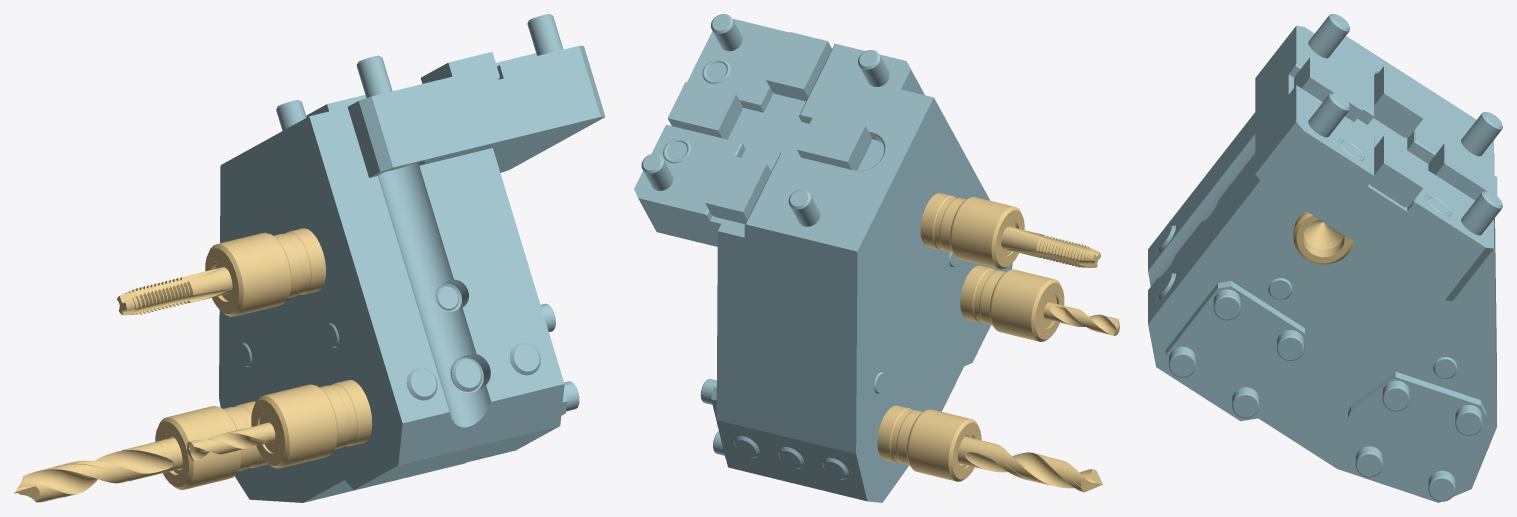
Rendered from toolblock-3x-real.glb.
3 renders of one model, left to right at view 1: azimuth 30°, elevation 25°; view 2: azimuth 150°, elevation 25°; view 3: azimuth 270°, elevation 25°, orthographic. The views are drawn at different scales.
Parts seen in each view (by area): view 1: Turret Assembly; view 2: Turret Assembly; view 3: Turret Assembly.
Boxes of the visible parts, <box> form: Turret Assembly: <box>14,14,605,502</box>; Turret Assembly: <box>634,14,1119,502</box>; Turret Assembly: <box>1148,14,1502,502</box>.
Size of the model in its own units: 17.28 by 15.17 by 11.
